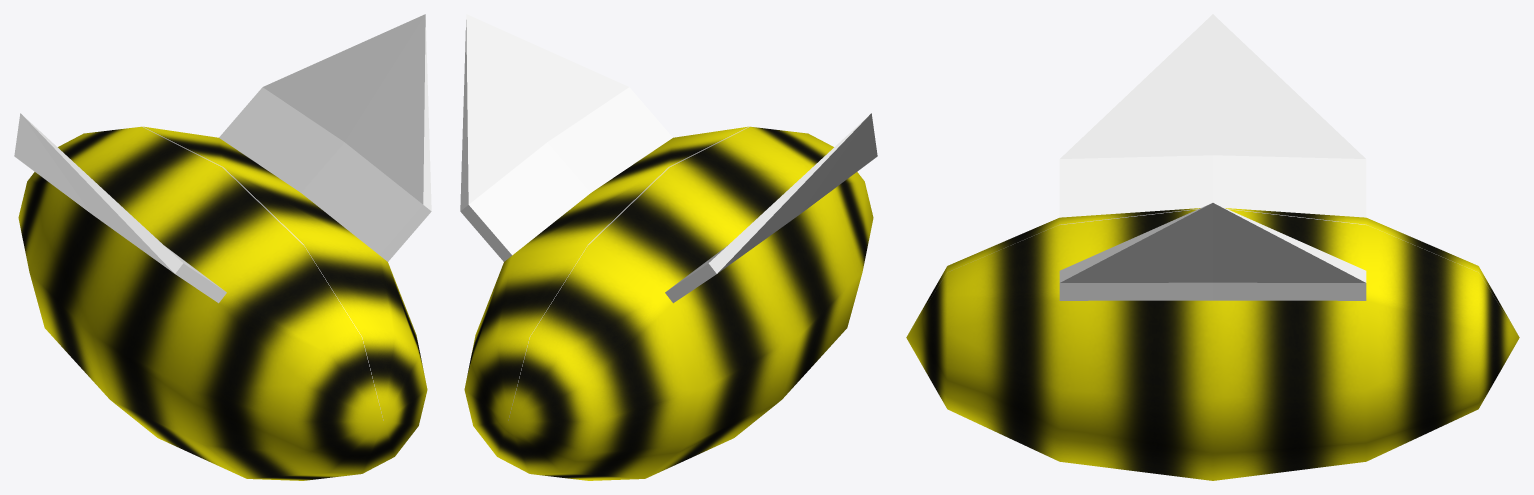
Rendered from Abeille.fbx.
3 renders of one model, left to right at view 1: azimuth 30°, elevation 25°; view 2: azimuth 150°, elevation 25°; view 3: azimuth 270°, elevation 25°, orthographic. The views are drawn at different scales.
Parts seen in each view (by area): view 1: Sphere001; view 2: Sphere001; view 3: Sphere001.
Part boxes in pixels (x1=…): Sphere001: x1=14, y1=14, x2=431, y2=480; Sphere001: x1=460, y1=14, x2=877, y2=480; Sphere001: x1=906, y1=14, x2=1519, y2=480.
Bounding box in the file's own units: 21.25 × 29.2 × 18.89.
1 material, 1 textured.
